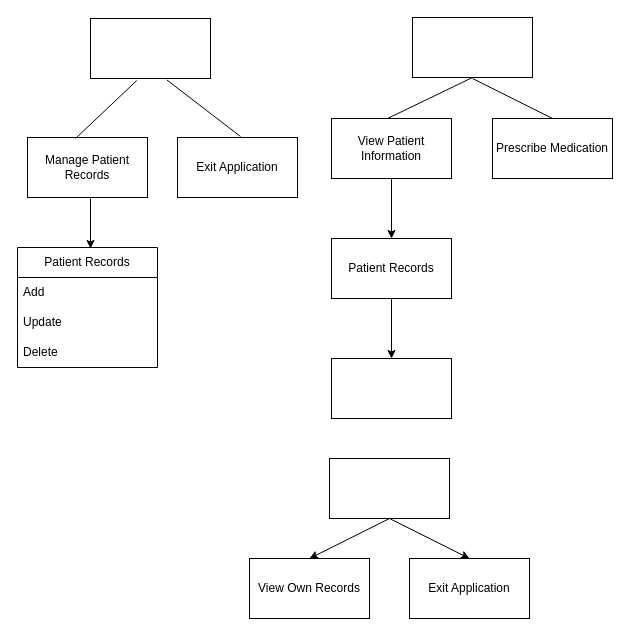
This 630x636 diagram has some shape labels left out. The shapes that lost their labels are listed below. From the top down, each one's centre as x and y in pixels, then its label:
the point at 150,48: Admin
the point at 472,47: Doctor
the point at 391,388: Update Patient Information
the point at 389,488: Patient
